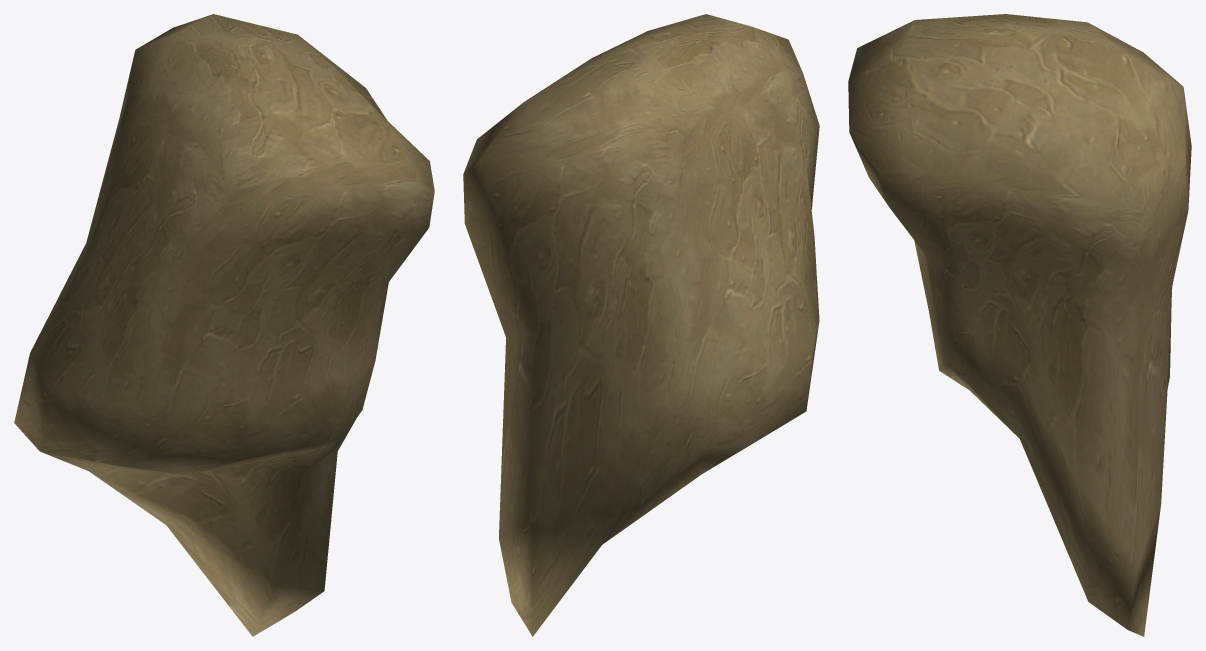
Rendered from MIRKWOOD_BLOCKERFORBILBO.fbx.
The picture shows the model from 3 angles, left to right: view 1: azimuth 30°, elevation 25°; view 2: azimuth 150°, elevation 25°; view 3: azimuth 270°, elevation 25°; orthographic projection. The views are drawn at different scales.
Parts seen in each view (by area): view 1: MIRKWOOD_BLOCKERFORBILBO; view 2: MIRKWOOD_BLOCKERFORBILBO; view 3: MIRKWOOD_BLOCKERFORBILBO.
Boxes of the visible parts, x1=… form: MIRKWOOD_BLOCKERFORBILBO: x1=14, y1=14, x2=434, y2=636; MIRKWOOD_BLOCKERFORBILBO: x1=463, y1=14, x2=819, y2=636; MIRKWOOD_BLOCKERFORBILBO: x1=848, y1=14, x2=1191, y2=636.
Size of the model in its own units: 43443 by 77330 by 41776.
1 material, 1 textured.
